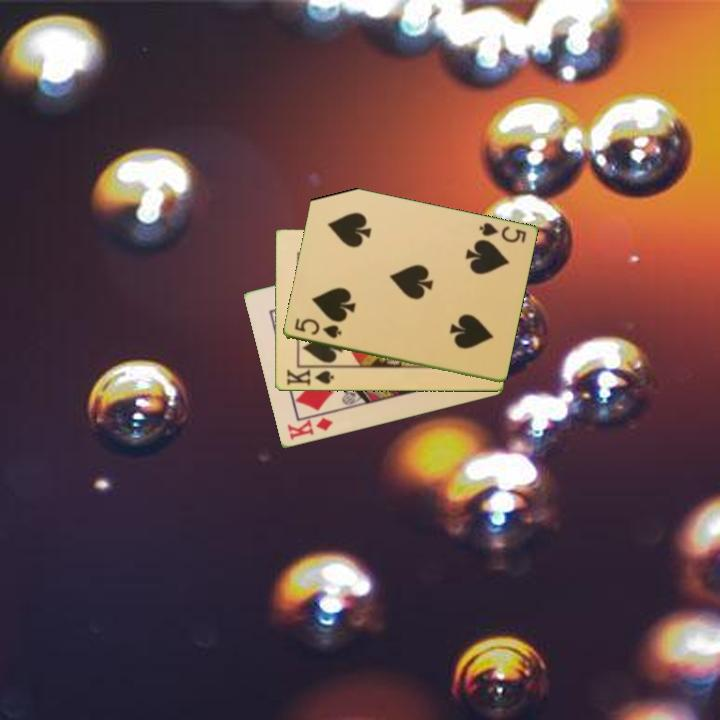5s: (475, 219, 529, 246), (291, 315, 344, 342)
Kd: (284, 414, 336, 443)
Ks: (283, 364, 337, 388)
